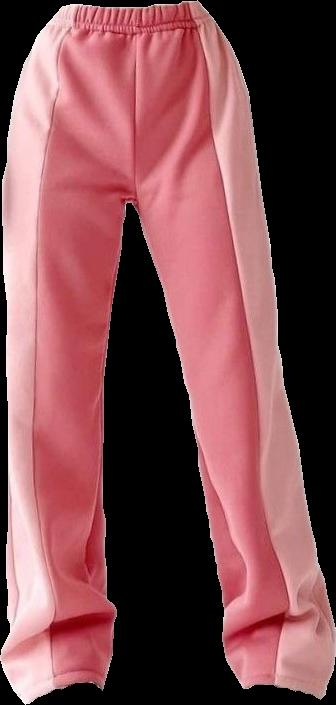Hemline: (23, 676, 104, 704), (243, 676, 324, 701)
Pantleg: (132, 1, 335, 698), (0, 3, 131, 702)
Waistline: (46, 18, 217, 36), (61, 0, 200, 12)
